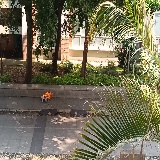fire: (42, 91, 52, 99)
